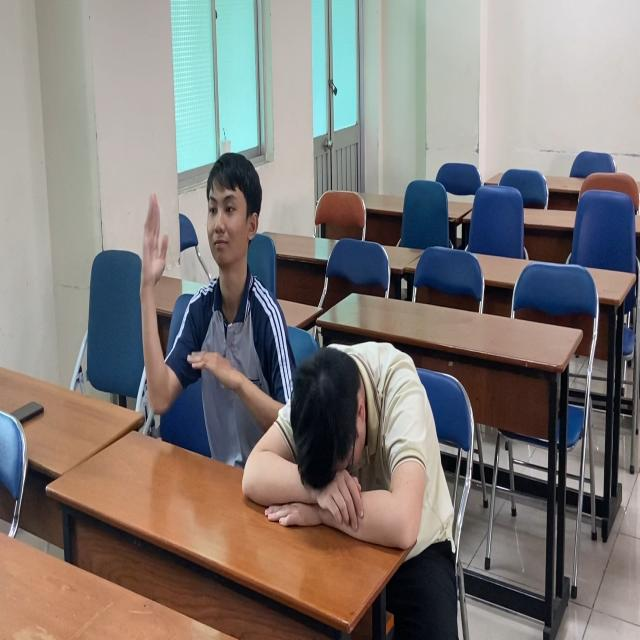raise_hand: (140, 151, 268, 437)
sleep: (239, 340, 452, 564)
